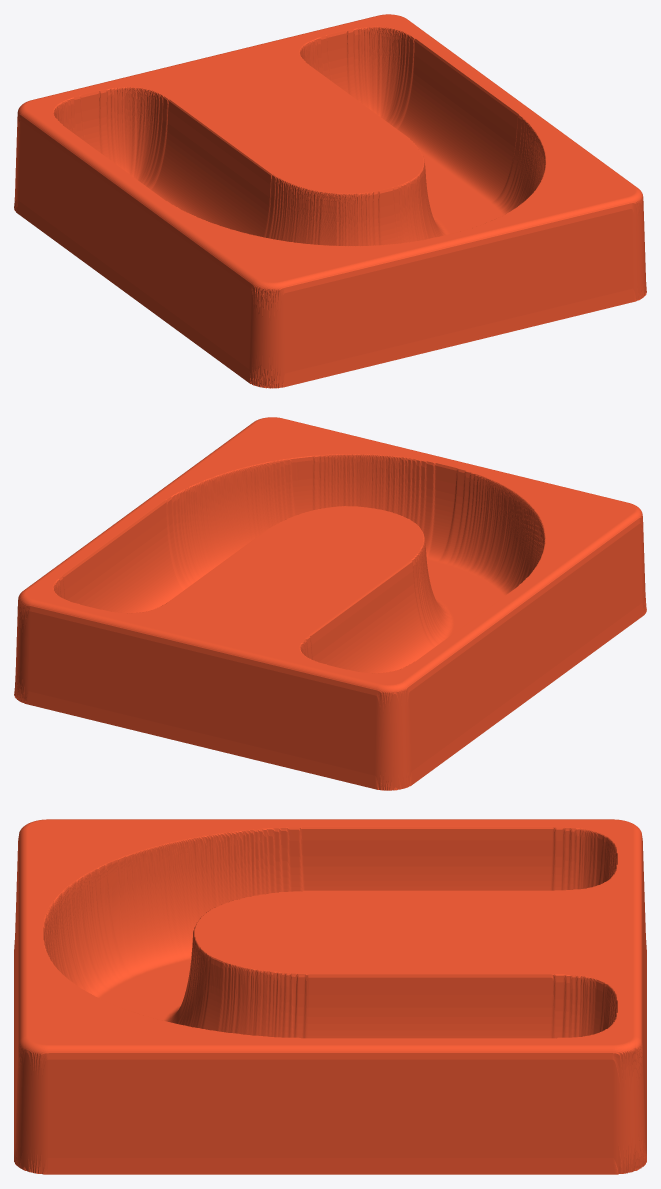
File: mold.glb
3 views of the same model, one above another, from view 1: azimuth 30°, elevation 25°; view 2: azimuth 150°, elevation 25°; view 3: azimuth 270°, elevation 25° (orthographic). The views are drawn at different scales.
Visible parts, largest first — view 1: geometry_0; view 2: geometry_0; view 3: geometry_0.
Boxes of the visible parts, bbox=[...] form: geometry_0: bbox=[14, 14, 646, 388]; geometry_0: bbox=[14, 417, 646, 790]; geometry_0: bbox=[14, 819, 646, 1174].
Size of the model in its own units: 0.1491 by 0.0365 by 0.1689.
